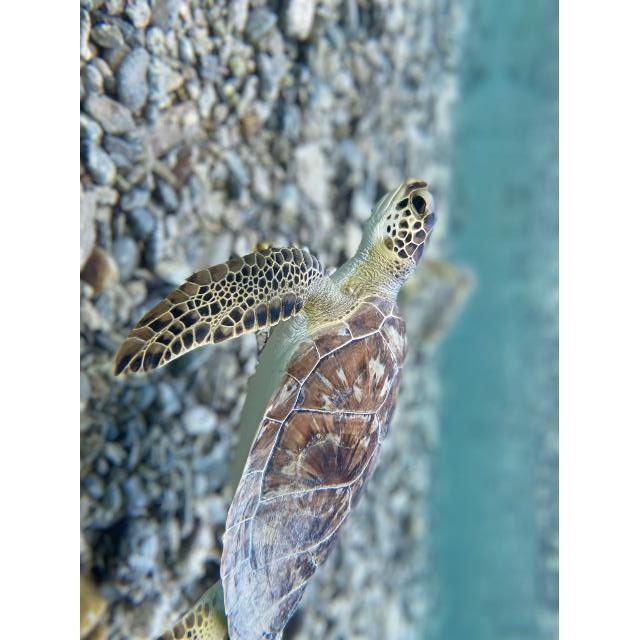turtle: (111, 178, 440, 638)
